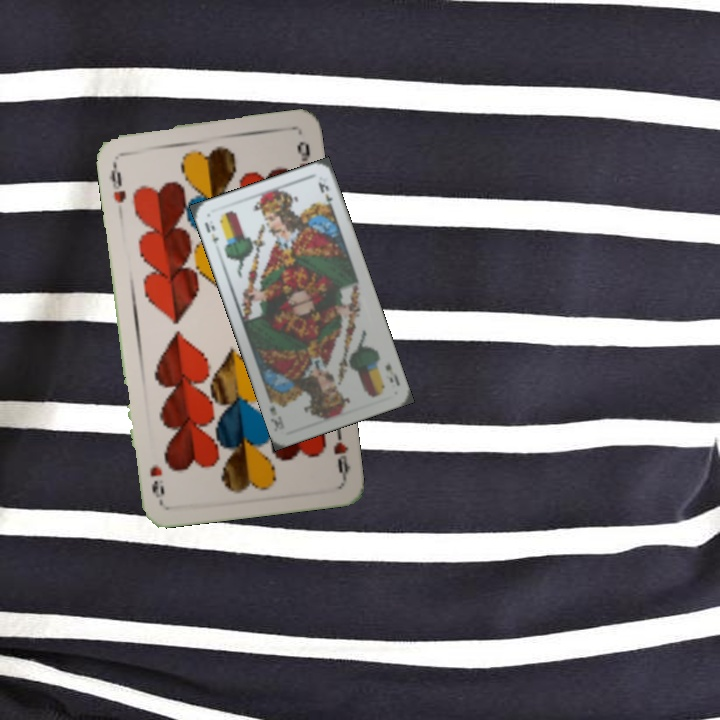EK: (200, 218, 222, 254), (381, 360, 402, 388)
H9: (329, 421, 353, 480), (104, 155, 128, 206)
